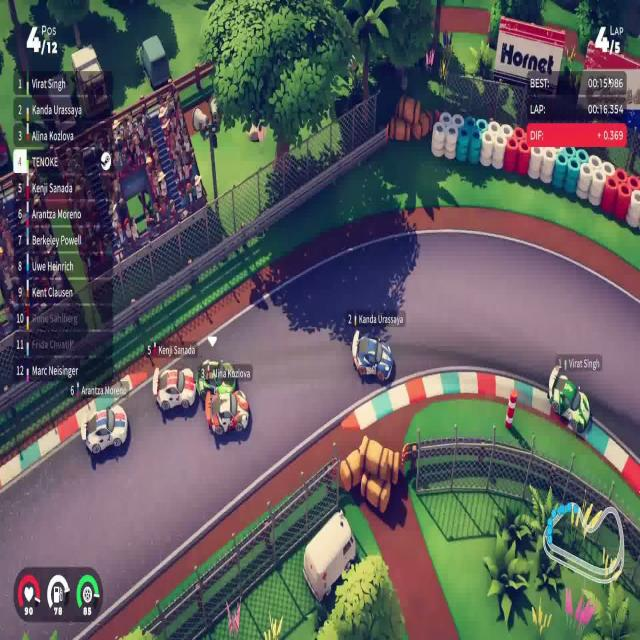car: (547, 363, 590, 436), (351, 328, 394, 384), (84, 403, 128, 457), (204, 386, 250, 437), (152, 364, 196, 414), (200, 356, 238, 396)
